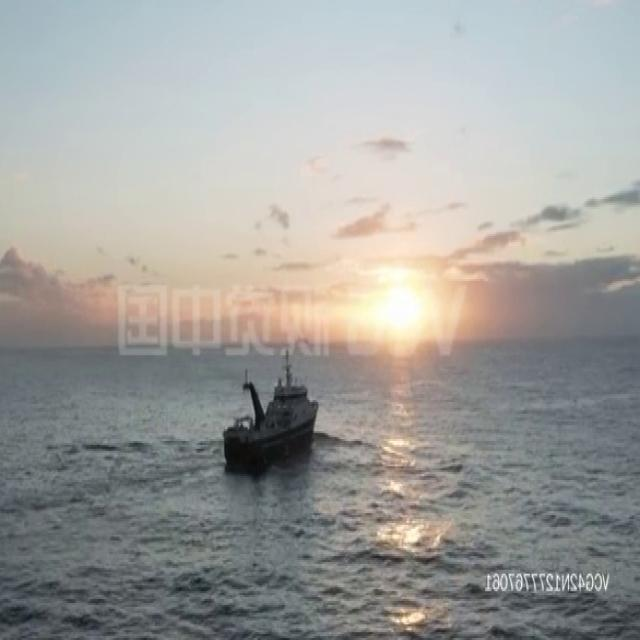houseboat: (221, 347, 317, 470)
